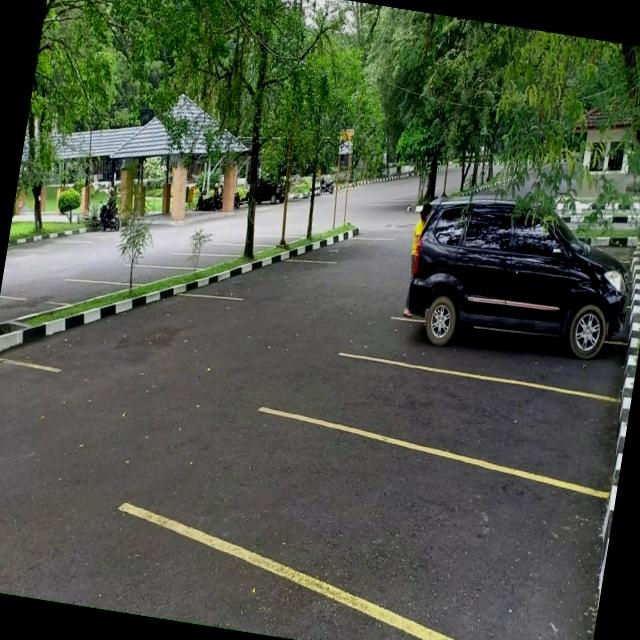car: (386, 223, 640, 401)
free: (162, 402, 614, 640), (320, 356, 627, 497), (25, 272, 267, 391), (208, 247, 336, 314), (38, 272, 112, 310), (108, 258, 176, 290), (166, 248, 232, 277), (195, 238, 259, 264)
